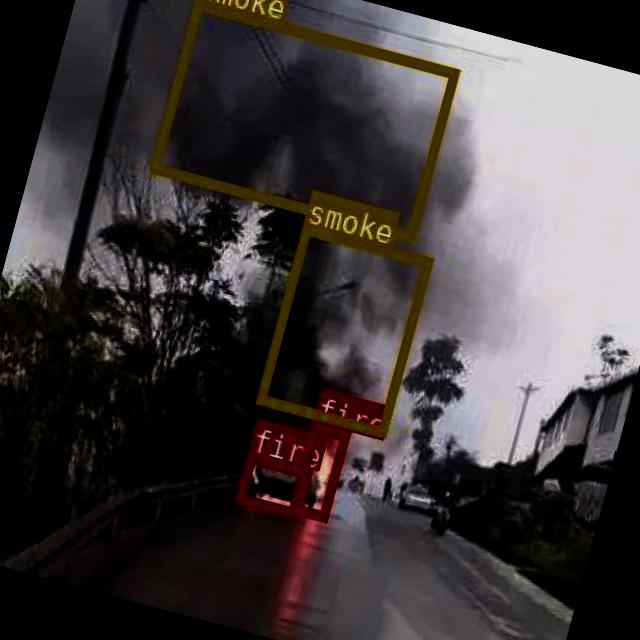fire: (288, 420, 348, 520), (233, 451, 311, 517)
smoke: (147, 0, 458, 240), (254, 222, 432, 436)
